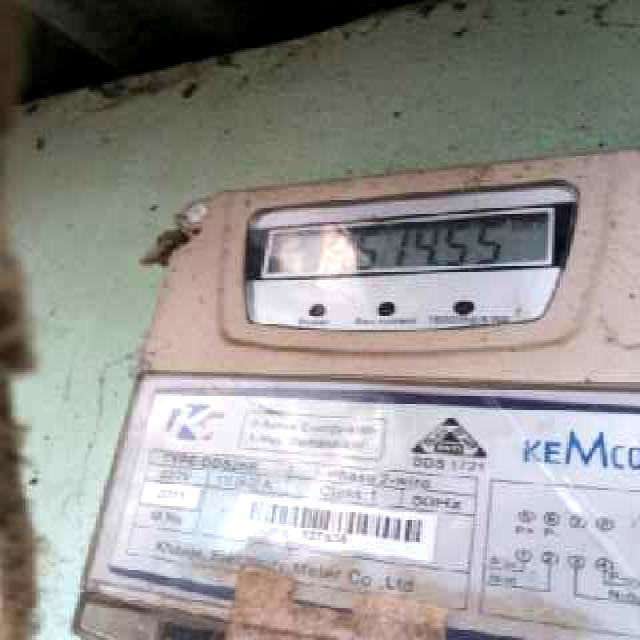LCD: (260, 199, 568, 275)
